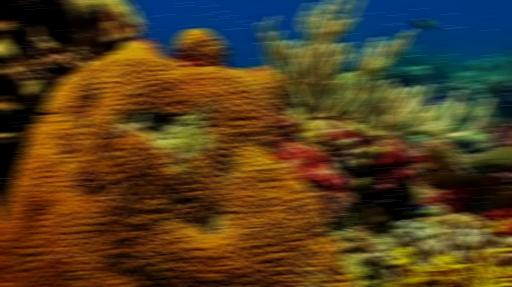Fish: (0, 82, 55, 132), (412, 18, 437, 29), (408, 204, 427, 218), (323, 194, 338, 210), (424, 94, 441, 105), (324, 221, 343, 230)
